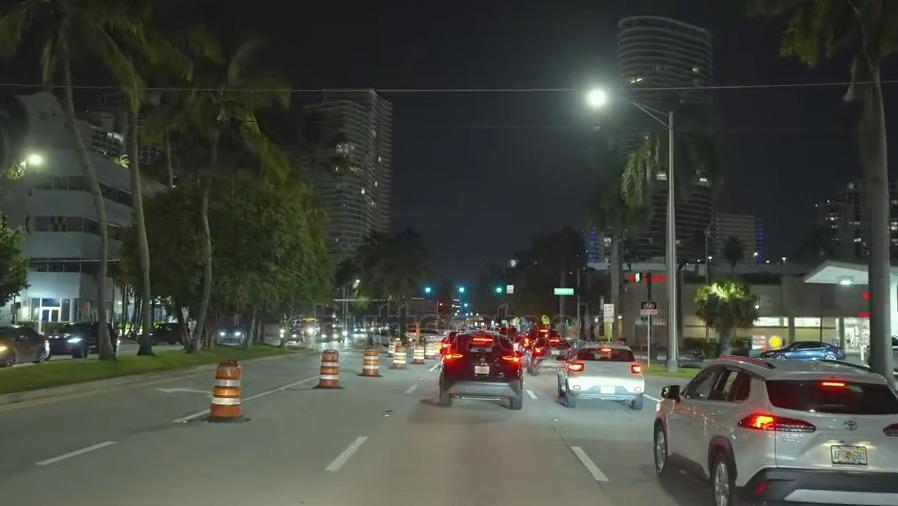car: (653, 357, 898, 506), (439, 330, 523, 410), (556, 341, 644, 410), (52, 320, 121, 355), (0, 325, 51, 364), (761, 339, 845, 360), (529, 335, 570, 371), (141, 322, 191, 345), (217, 323, 246, 345)
cone: (212, 357, 244, 422), (318, 347, 341, 391), (360, 345, 380, 375), (391, 344, 406, 369), (411, 342, 423, 367)
wheel: (705, 443, 735, 506), (651, 417, 671, 471)
